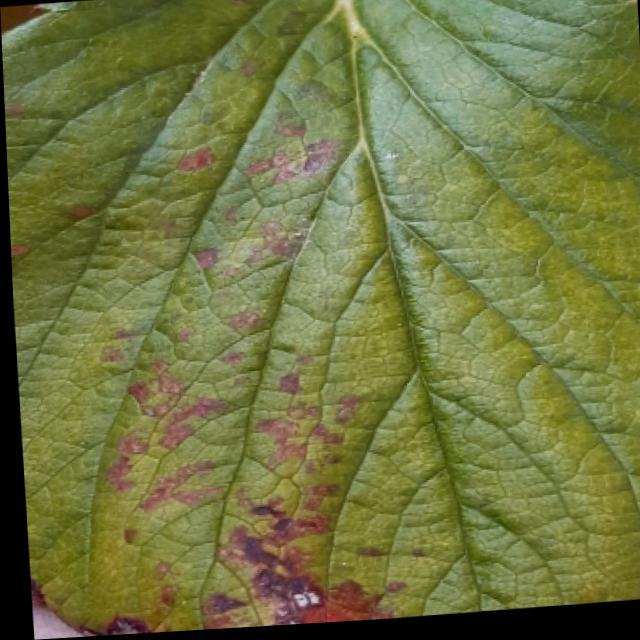Angular Leafspot: (3, 0, 408, 638)
